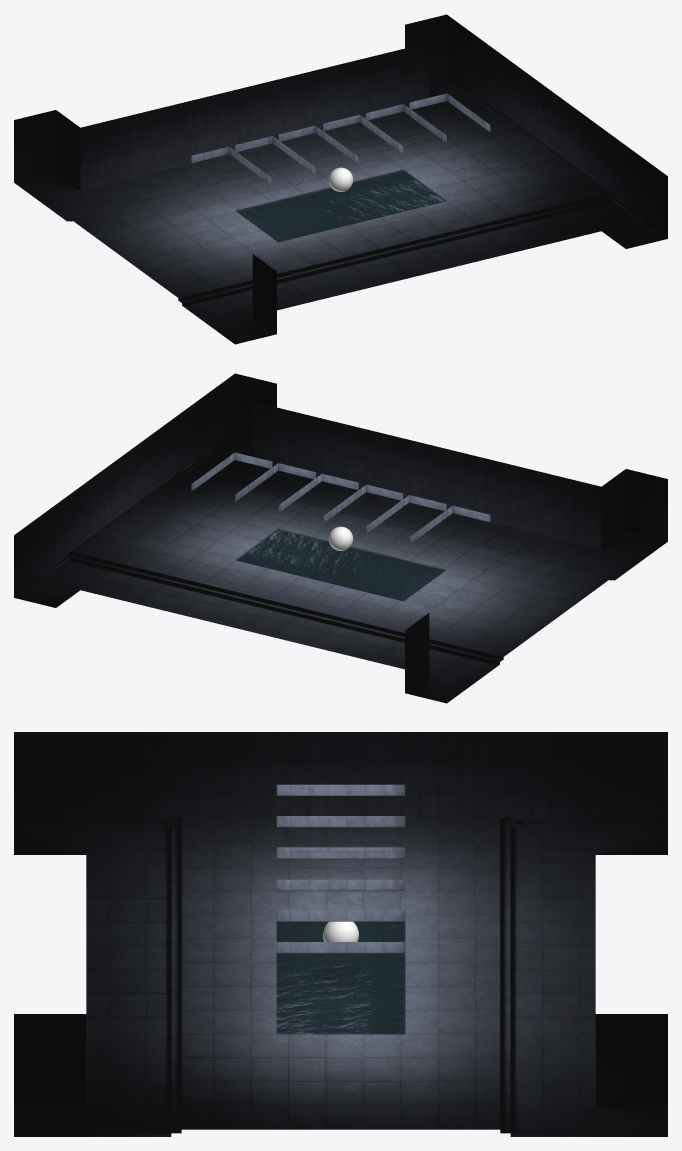
3 renders of one model, top to bottom at view 1: azimuth 30°, elevation 25°; view 2: azimuth 150°, elevation 25°; view 3: azimuth 270°, elevation 25°, orthographic. The views are drawn at different scales.
Parts seen in each view (by area): view 1: walls, Sphere; view 2: walls, Sphere; view 3: walls, Sphere.
Boxes of the visible parts, <box> form: walls: <box>14,14,667,344</box>; Sphere: <box>328,167,353,191</box>; walls: <box>14,373,667,703</box>; Sphere: <box>328,526,353,550</box>; walls: <box>14,732,667,1136</box>; Sphere: <box>323,921,358,941</box>.
Bounding box in the file's own units: 41.95 × 6.51 × 37.11.
Materials: 2 (1 with a texture image).
